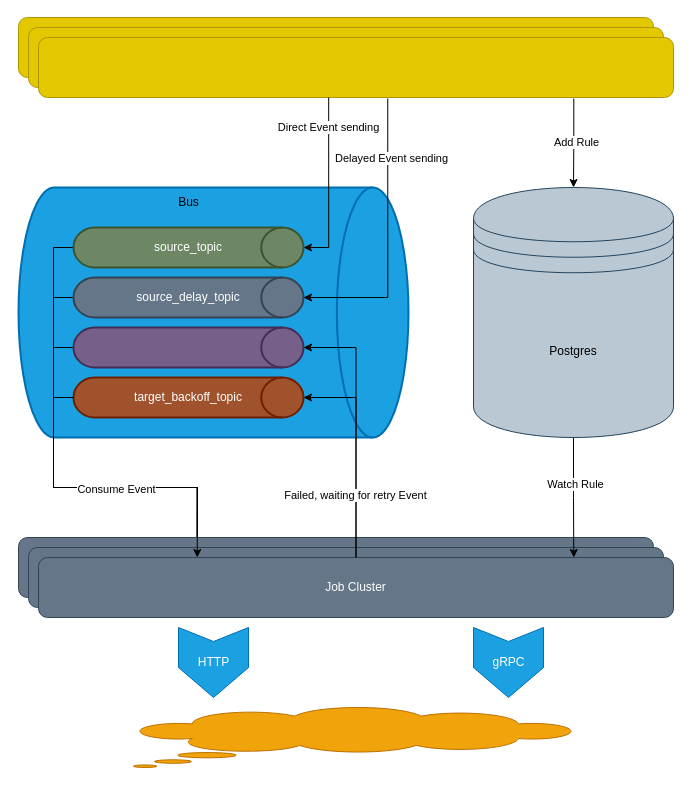
Some shapes in this 691 by 785 pixel diagram are drawn without their labels. The shapes that lost their labels are listed below. From the top down, each one's centre as x and y in pixels, then its label:
pixel 356 67: Service Cluster
pixel 188 347: target_exp_decay_topic
pixel 353 737: Target applications and services
